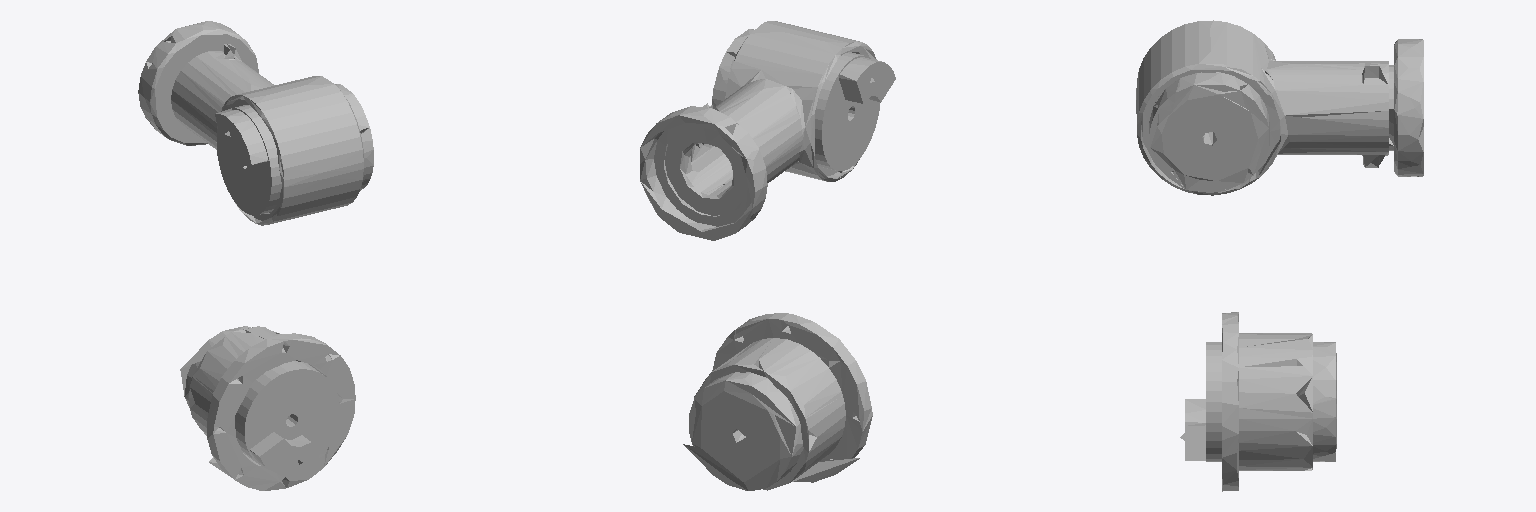
The robot description file, URDF, robot "genie01":
<?xml version="1.0" ?>
<!-- =================================================================================== -->
<!-- |    This document was autogenerated by xacro from /home/zy/Motion/calibration/ros2_visual/src/robot_description/xacro/robot_genieArm.xacro | -->
<!-- |    EDITING THIS FILE BY HAND IS NOT RECOMMENDED                                 | -->
<!-- =================================================================================== -->
<robot name="genie01">
  <link name="base_link"/>
  <joint name="Link_fixed" type="fixed">
    <origin rpy="0 0 0.0" xyz="0 0 0.0"/>
    <parent link="base_link"/>
    <child link="base_link_l"/>
    <axis xyz="0 0 0"/>
  </joint>
  <!-- 左臂的所有link和joint定义 -->
  <link name="base_link_l">
    <inertial>
      <origin rpy="0 0 0" xyz="-0.00020641 0.00057488 0.032296"/>
      <mass value="0.37595"/>
      <inertia ixx="0.00024335" ixy="1.2188E-06" ixz="-2.4281E-06" iyy="0.00024039" iyz="6.6932E-06" izz="0.00032195"/>
    </inertial>
    <visual>
      <origin rpy="0 0 0" xyz="0 0 0"/>
      <geometry>
        <!-- <mesh filename="meshes/base_link_l.STL"/> -->
        <mesh filename="meshes/visual/base_link_l.obj"/>
        <!-- <mesh filename="meshes/panda/link0.dae"/>        -->
      </geometry>
      <material name="">
        <color rgba="0.75294 0.75294 0.75294 1"/>
      </material>
    </visual>
    <collision>
      <geometry>
        <cylinder length="0.0913499565795064" radius="0.05200000736048429"/>
      </geometry>
      <origin rpy="0.0 -0.0 -0.6283185307179586" xyz="1.162979919507825e-09 2.3673517507174665e-09 0.030325019266456366"/>
    </collision>
  </link>
  <link name="Link1_l">
    <inertial>
      <origin rpy="0 0 0" xyz="-0.0012655 -0.00043778 -0.018388"/>
      <mass value="0.4936"/>
      <inertia ixx="0.00075396" ixy="6.6935E-06" ixz="6.1141E-06" iyy="0.00065755" iyz="1.2196E-06" izz="0.00031848"/>
    </inertial>
    <visual>
      <origin rpy="1.5708 -1.5708 0" xyz="0 0 0"/>
      <geometry>
        <mesh filename="meshes/visual/Link1_l.obj"/>
      </geometry>
      <material name="">
        <color rgba="0.75294 0.75294 0.75294 1"/>
      </material>
    </visual>
    <collision>
      <geometry>
        <cylinder length="0.1638999544084072" radius="0.05559538401924806"/>
      </geometry>
      <origin rpy="0.0 -0.0 0.0" xyz="0.002274562215703227 3.725290298461914e-09 0.04194996692240238"/>
    </collision>
  </link>
  
  <!-- 对关节的集中处理 -->
  <joint name="Joint1_l" type="revolute">
    <origin rpy="-1.5707963267948966            0            1.5707963267948966" xyz="0.0            0.0            0.188"/>
    <parent link="base_link_l"/>
    <child link="Link1_l"/>
    <axis xyz="0 -1 0"/>
    <limit effort="60" lower="-3.14" upper="3.14" velocity="3.14"/>
  </joint>
  
</robot>

--- What the picture shows (computed from the rendered views, not written in the file) ---
The picture shows the robot from 3 angles, left to right: view 1: azimuth 30°, elevation 25°; view 2: azimuth 150°, elevation 25°; view 3: azimuth 270°, elevation 25°; orthographic projection.
Robot: genie01 — 3 links, 2 joints (1 revolute, 1 fixed); root link base_link; default pose: all joints at 0.
Visible links, largest first — view 1: Link1_l, base_link_l; view 2: Link1_l, base_link_l; view 3: Link1_l, base_link_l.
Link boxes in pixels (left/top/right/bottom): Link1_l: left=138, top=21, right=373, bottom=225; base_link_l: left=180, top=326, right=355, bottom=490; Link1_l: left=640, top=21, right=895, bottom=240; base_link_l: left=683, top=313, right=872, bottom=490; Link1_l: left=1136, top=20, right=1423, bottom=195; base_link_l: left=1180, top=312, right=1336, bottom=491.
Size in the robot's own frame: 0.1046 by 0.1664 by 0.2828 metres.
2 mesh visuals loaded from 2 distinct referenced files (2 OBJ).
